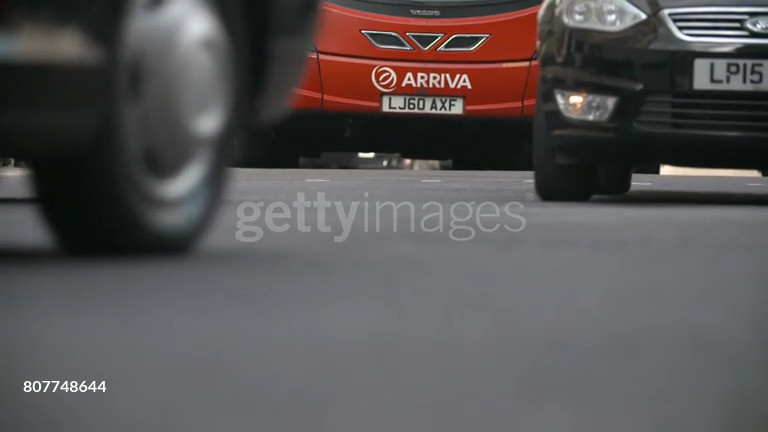car number: (691, 58, 768, 90), (381, 93, 463, 113)
